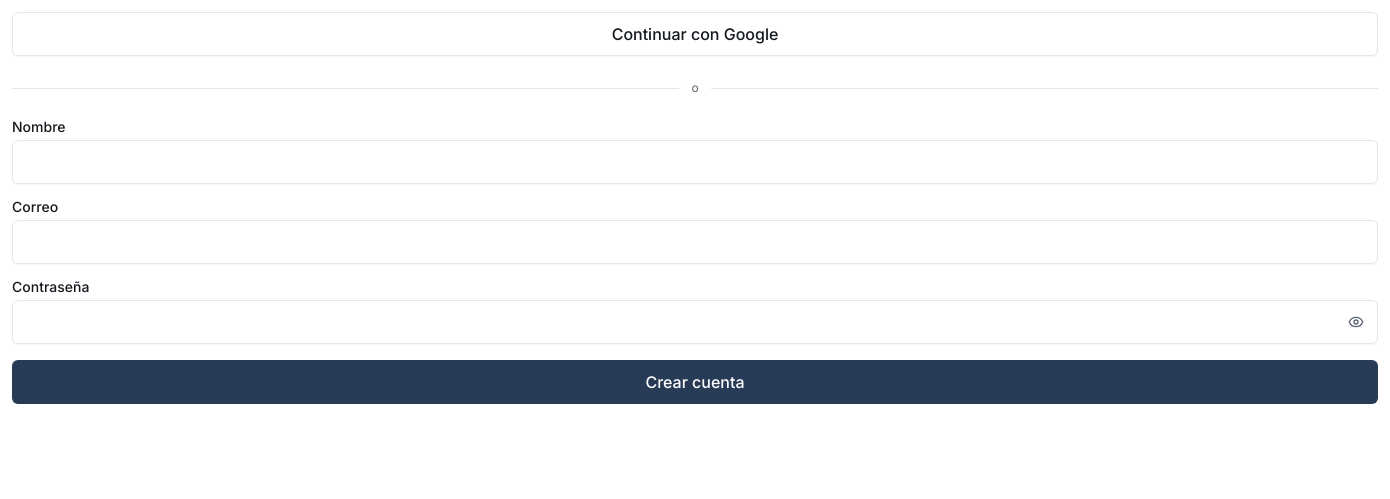
it: RegistroForm › muestra los errores de validación cuando los campos son inválidos
The width and height of the screenshot is (1390, 499).
Click the button "Crear cuenta".
click(695, 382)  # box [12,360,1378,404]
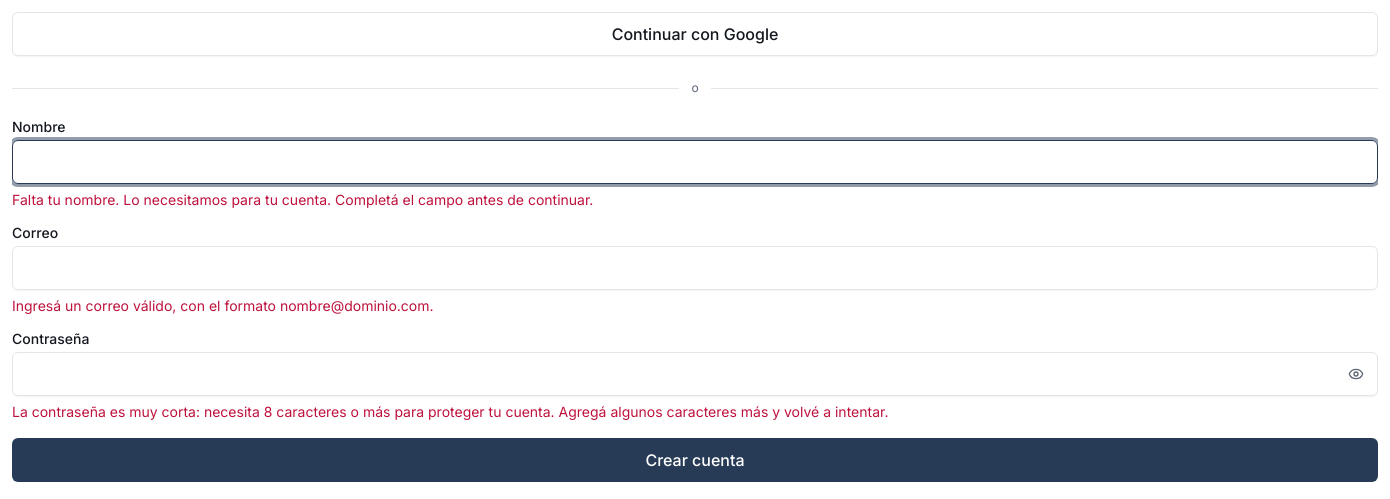
Expected: the text "necesita 8 caracteres" is shown, [12,403,888,420]
